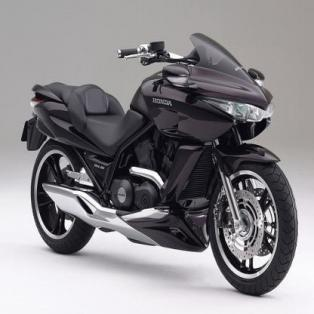Motocicleta: (17, 29, 298, 296)
